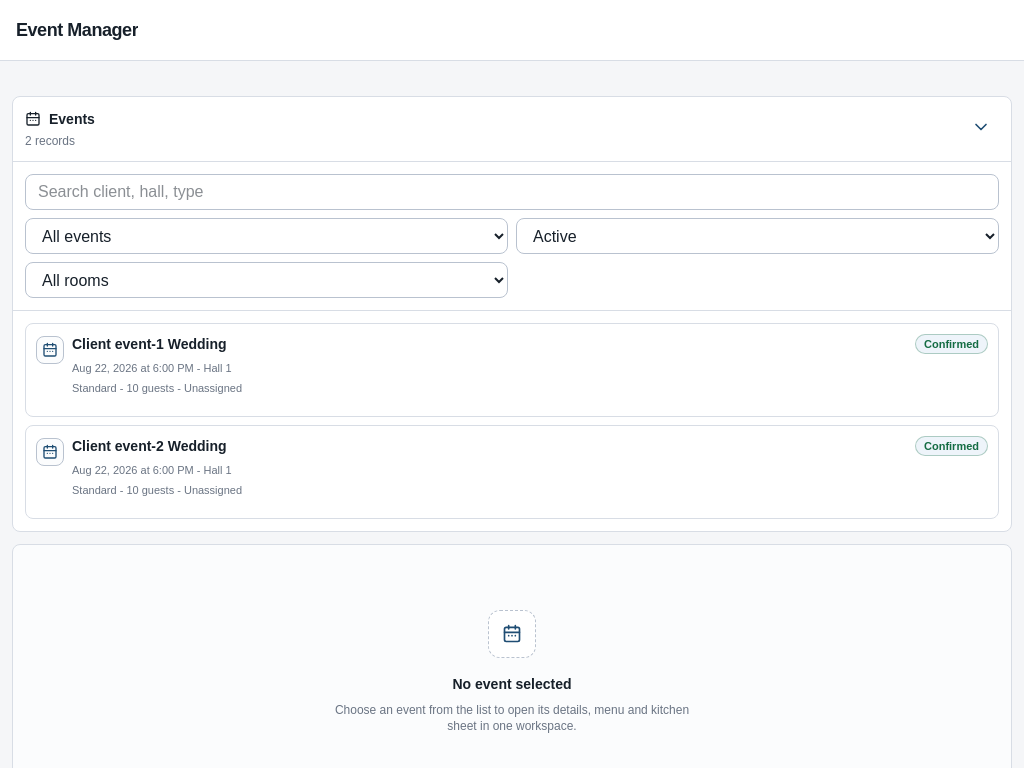
Event Manager selection › opens the event that is clicked, and only then
This screenshot has width=1024, height=768.
Click the button "Client event-2 Wedding": (149, 446) [25,425,999,519]
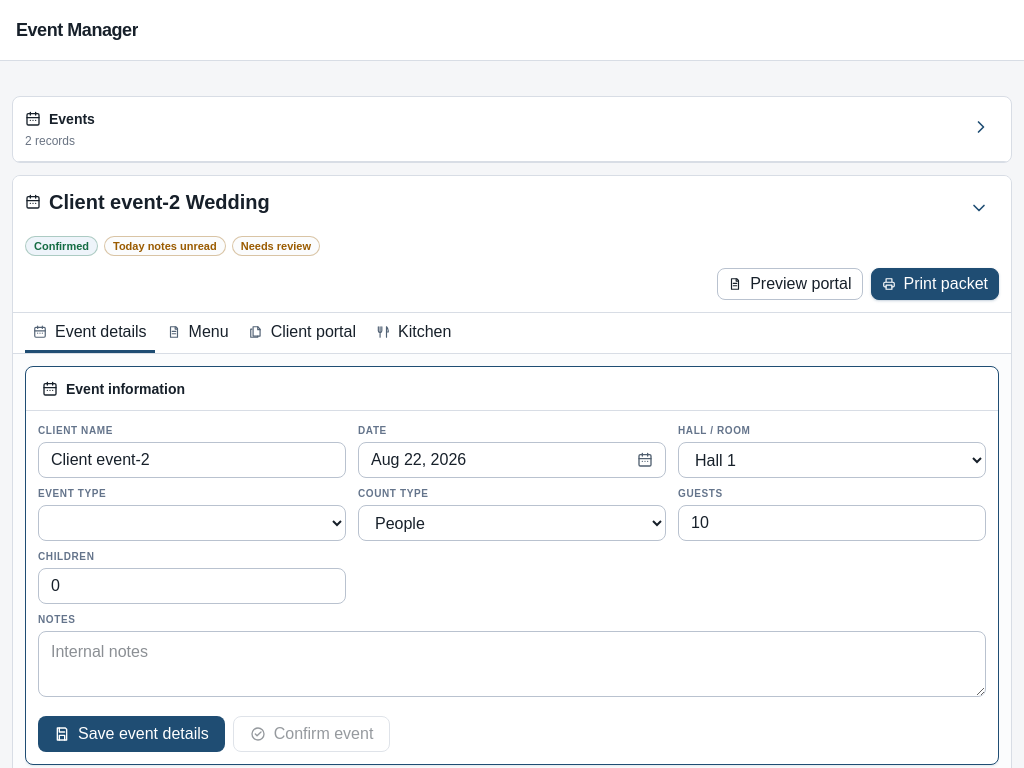
Expected: the heading "Client event-2 Wedding" is shown, [49,188,270,216]
Expected: the navigation bar named "Event workspace" is shown, [13,313,1011,354]
Expected: the heading "No event selected" is gone
